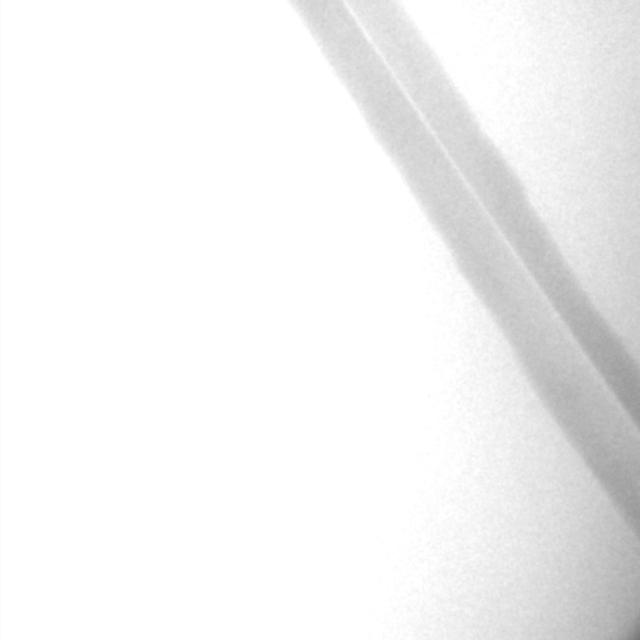broken arc: (345, 2, 635, 422)
